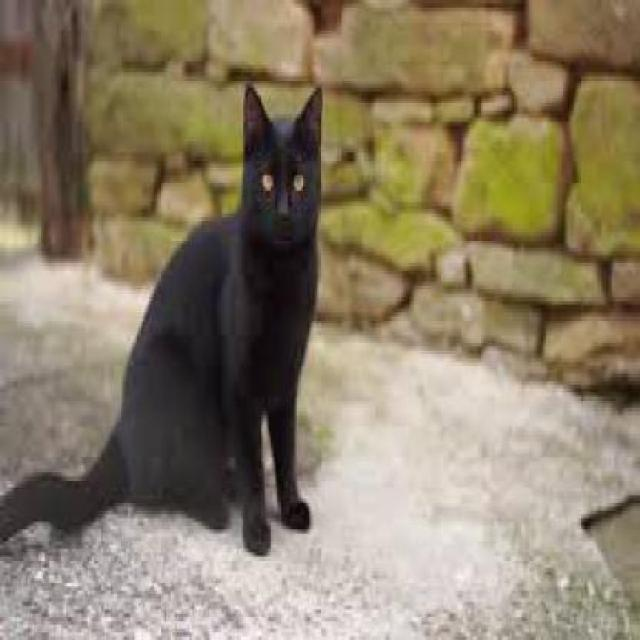animals: (9, 72, 328, 542)
